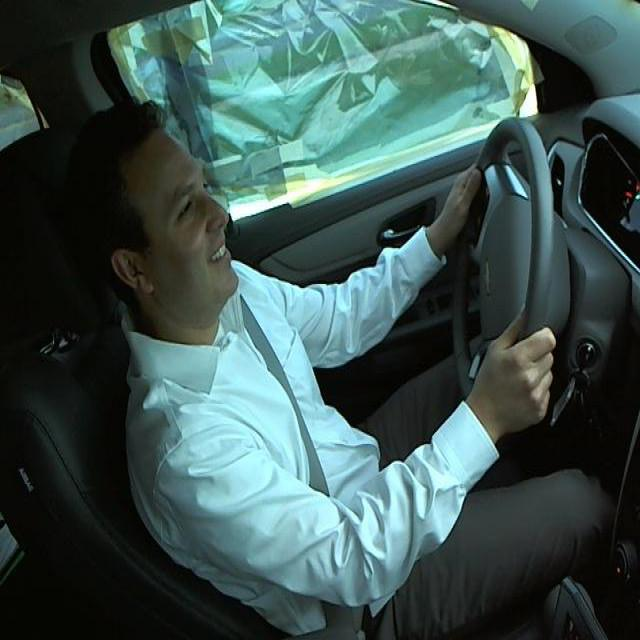seatbelt: (249, 308, 348, 532)
